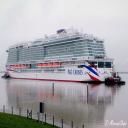cruises: (5, 26, 117, 86)
